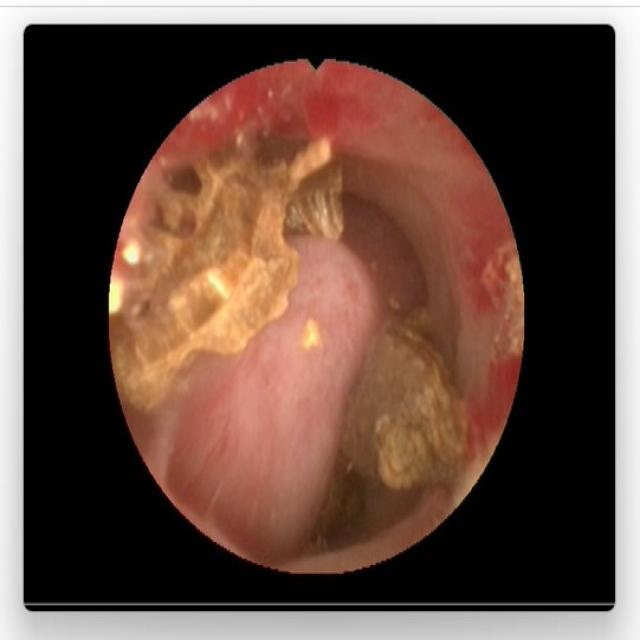stone: (115, 131, 346, 415), (317, 304, 469, 541), (306, 317, 319, 347)
tissue: (164, 78, 489, 551)
